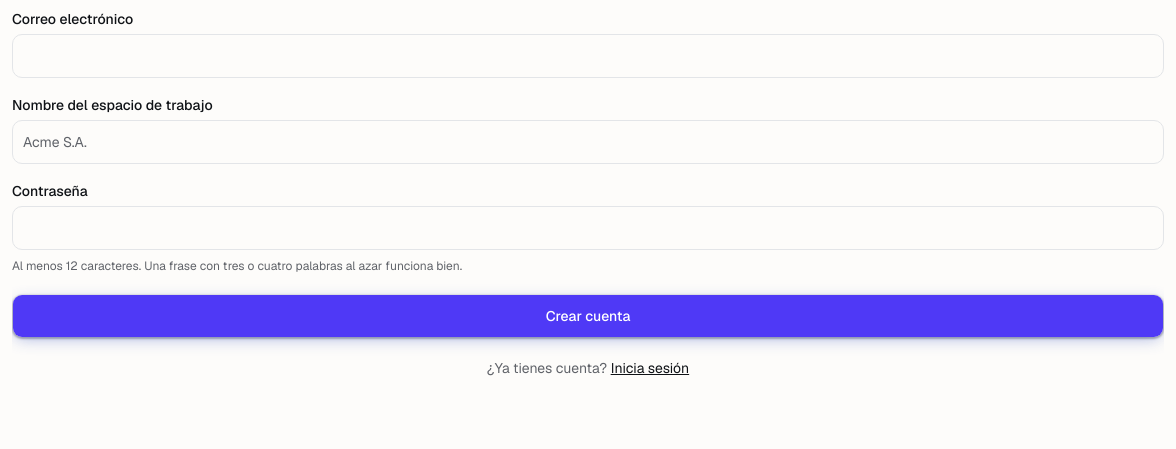
it: RegisterForm › requires a valid email and a long password
Type "no-es-un-email" into the field labelled "Correo electrónico" at (588, 56), box top-left (12, 34), bottom-right (1164, 78)
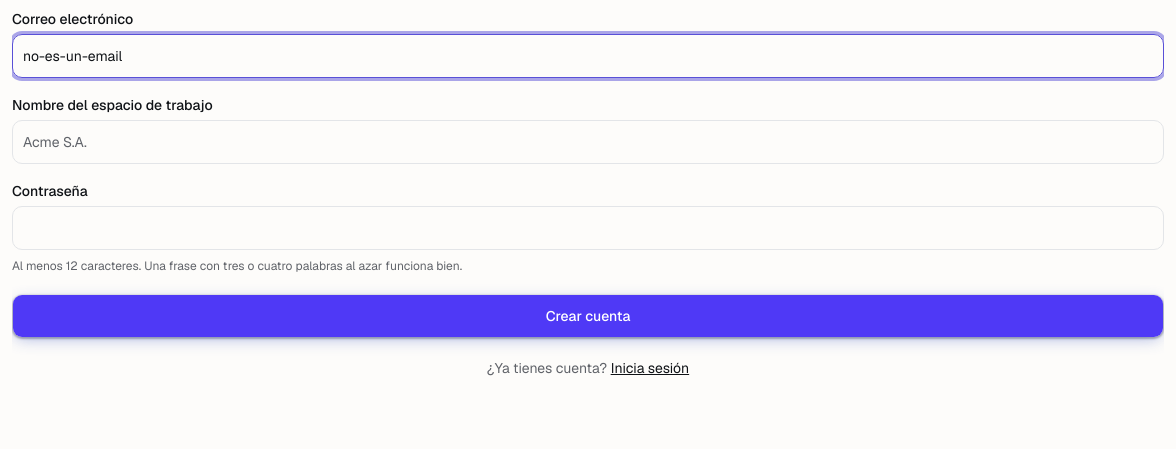
Type "Acme" into the field labelled "Nombre del espacio de trabajo" at (588, 142), box top-left (12, 120), bottom-right (1164, 164)
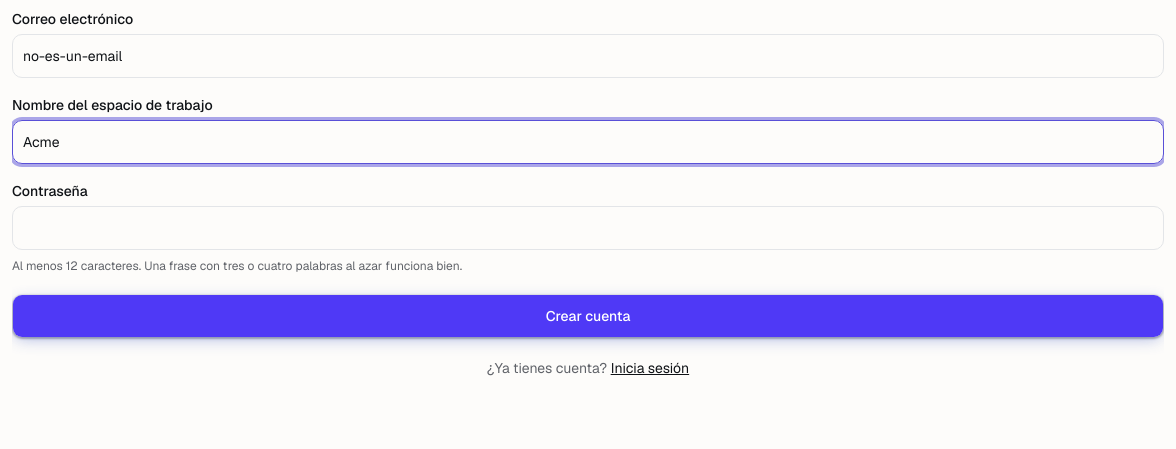
Type "corto" into the password field labelled "Contraseña" at (588, 228), box top-left (12, 206), bottom-right (1164, 250)
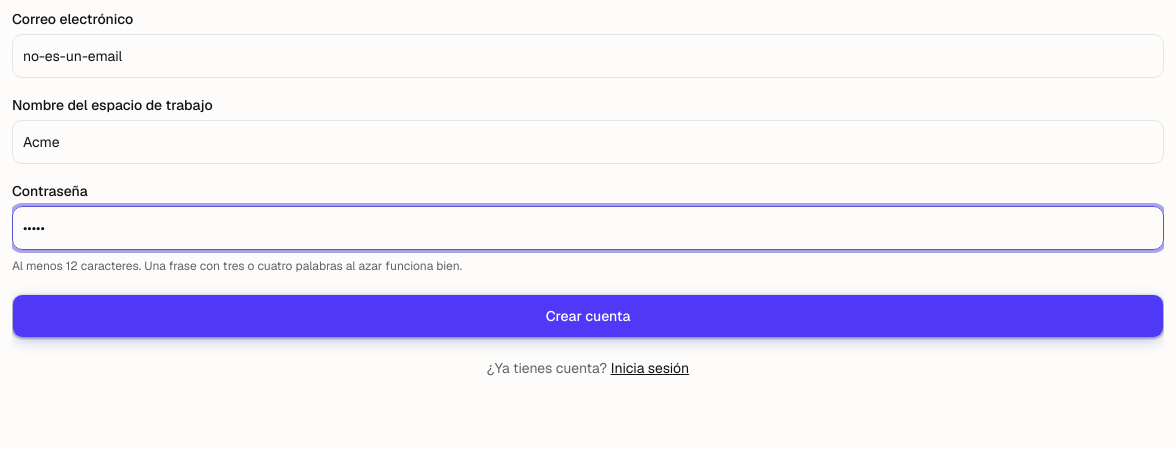
Click the button "Crear cuenta" at (588, 316), box top-left (12, 294), bottom-right (1164, 338)
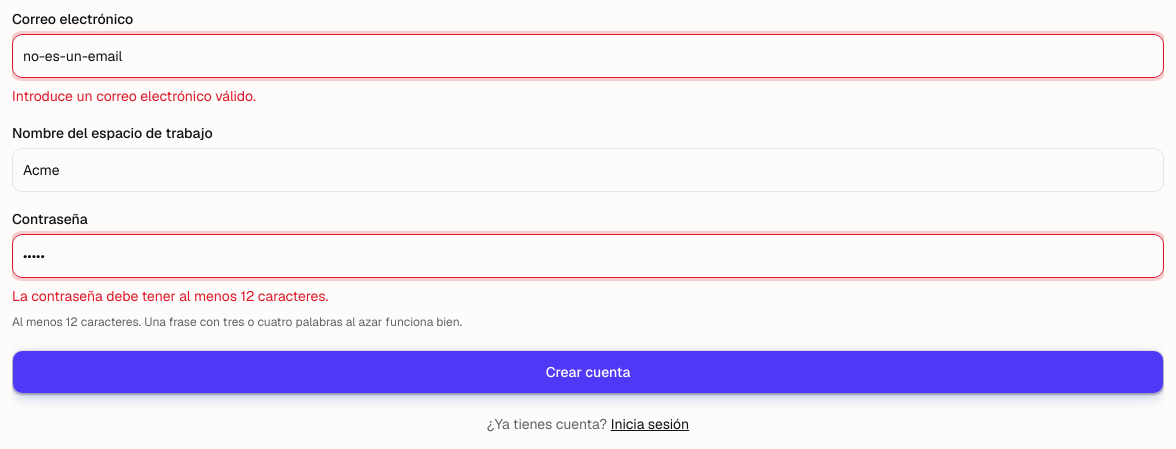
Result: the text "Introduce un correo electrónico válido." is shown at top-left (12, 87), bottom-right (256, 105)
Result: the text "La contraseña debe tener al menos 12 caracteres." is shown at top-left (12, 287), bottom-right (328, 305)
